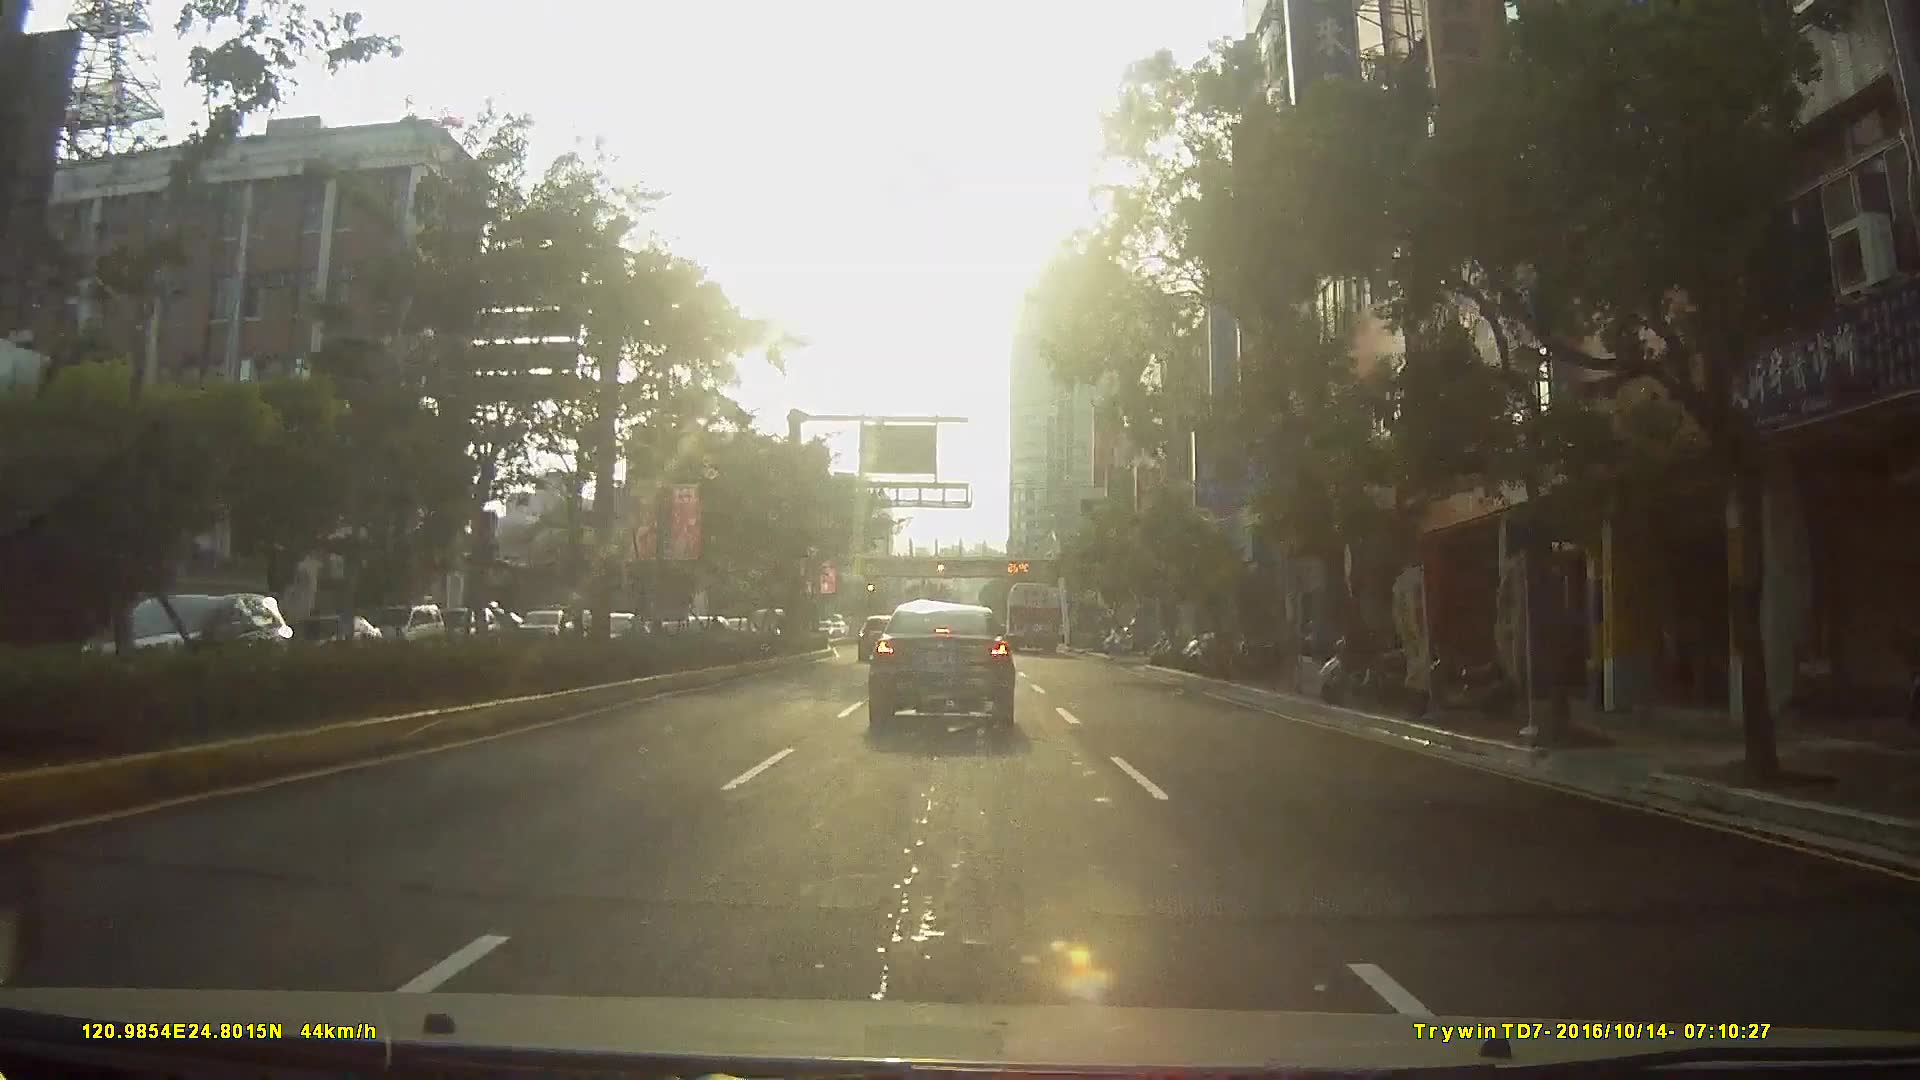vehicle: (44, 592, 278, 709), (862, 601, 1015, 732), (156, 597, 265, 669), (1002, 579, 1063, 651), (365, 603, 443, 653), (427, 605, 495, 655), (510, 609, 571, 647), (857, 613, 901, 662)
